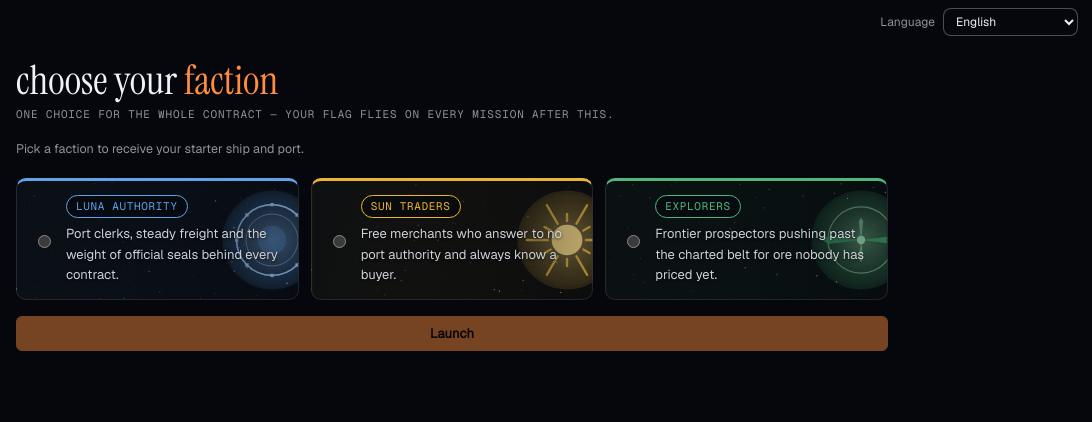
Test case: quest givers in the pilot screens › the faction picker replaces the selected card blurb with the leader welcome
Click the radio button labelled "Luna Authority".
click(44, 242)  # box left=38, top=235, right=51, bottom=248
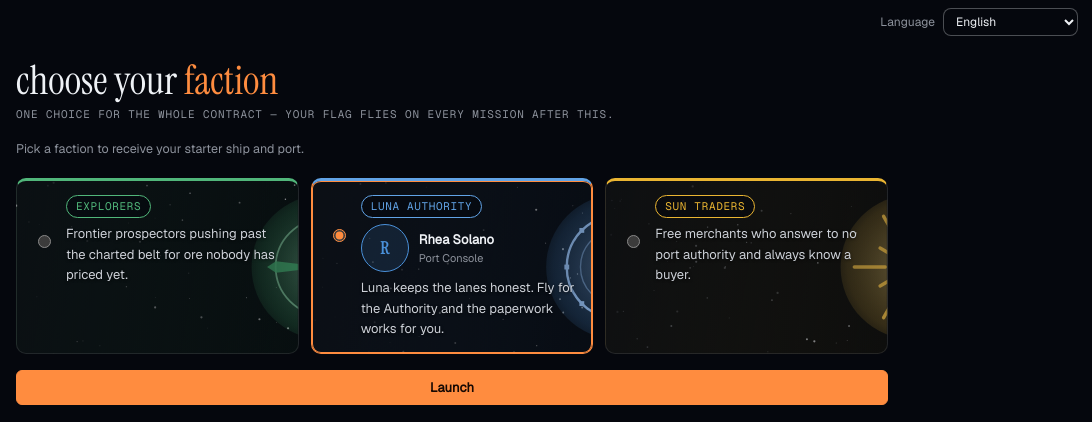
Now the text "Luna keeps the lanes honest. Fly for the Authority and the paperwork works for you." is shown, box left=361, top=280, right=574, bottom=337
